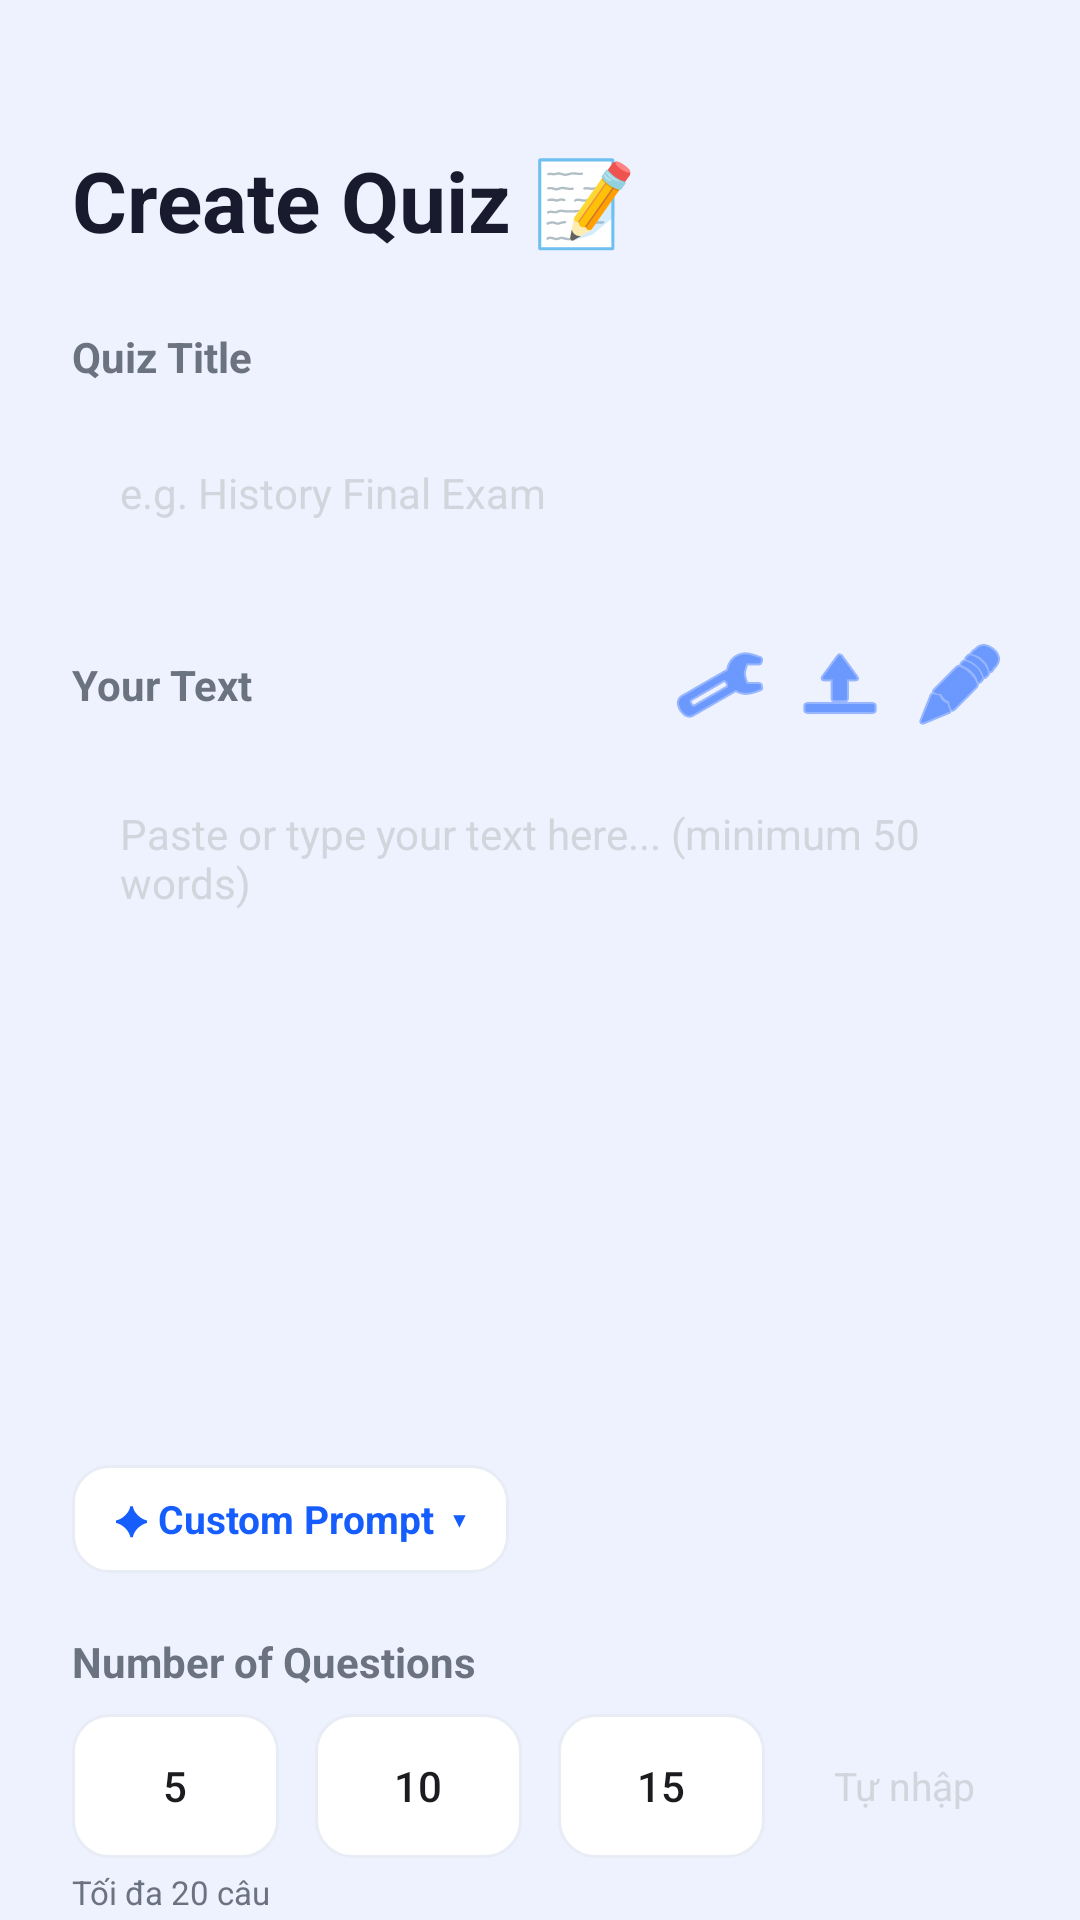

Named icons in this screenshot (1080×1920) and their centers, (x,y):
edit: (959,684)
manage: (720,685)
upload: (840,683)
